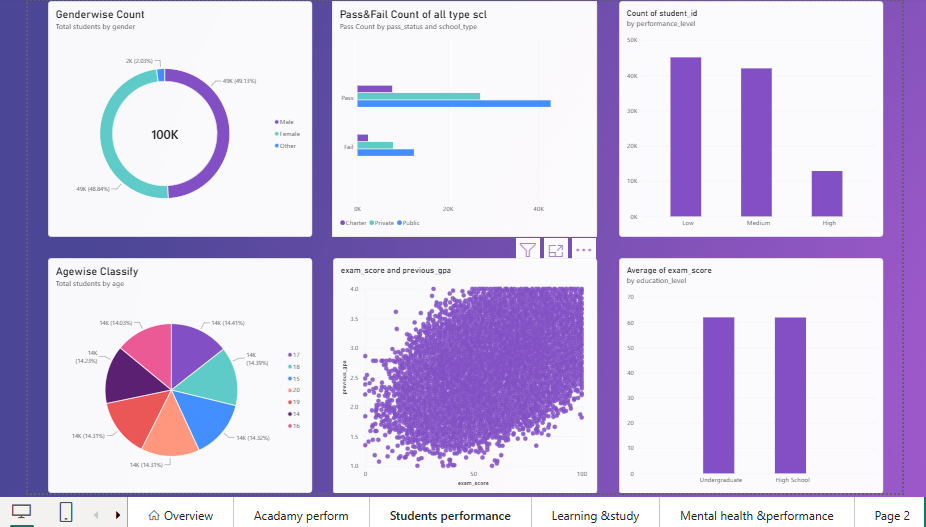

The page's visual inventory and layout, read from the dashboard file:
{"tool":"powerbi","page":{"name":"Students performance","canvas":[1920,1080],"ordinal":2},"visuals":[{"type":"donutChart","title":"Genderwise Count","fields":{"Category":["student_exam_performance.gender"],"Y":["student_exam_performance.Total students"]},"box":[43.5,0,579.7,517.8],"z":0},{"type":"pieChart","title":"Agewise Classify","fields":{"Category":["student_exam_performance.age Hierarchy.age"],"Y":["student_exam_performance.Total students"]},"box":[43.5,563.6,579.7,515.5],"z":1000},{"type":"clusteredBarChart","title":"Pass&Fail Count of all type scl","fields":{"Category":["student_exam_performance.pass_status"],"Series":["student_exam_performance.school_type"],"Y":["student_exam_performance.Pass Count"]},"box":[666.7,0,582,517.8],"z":2000},{"type":"scatterChart","fields":{"X":["student_exam_performance.exam_score"],"Y":["student_exam_performance.previous_gpa"]},"box":[669,563.6,579.7,517.8],"z":3000},{"type":"columnChart","fields":{"Category":["student_exam_performance.performance_level"],"Y":["CountNonNull(student_exam_performance.student_id)"]},"box":[1296.8,0,579.7,517.8],"z":4000},{"type":"columnChart","fields":{"Category":["student_exam_performance.education_level"],"Y":["Avg(student_exam_performance.exam_score)"]},"box":[1296.8,563.6,579.7,517.8],"z":5000}]}

Visuals, with their boxes on the page's 1920x1080 design canvas (x1, y1, x2, y2). These are canvas units, not pixel positions in the 926x527 screenshot, which may show the page scaled, cropped or inside an application window:
"Genderwise Count" donutChart: (44,0,623,518)
"Agewise Classify" pieChart: (44,564,623,1079)
"Pass&Fail Count of all type scl" clusteredBarChart: (667,0,1249,518)
scatterChart - student_exam_performance.exam_score x student_exam_performance.previous_gpa: (669,564,1249,1081)
columnChart - student_exam_performance.performance_level x CountNonNull(student_exam_performance.student_id): (1297,0,1876,518)
columnChart - student_exam_performance.education_level x Avg(student_exam_performance.exam_score): (1297,564,1876,1081)
